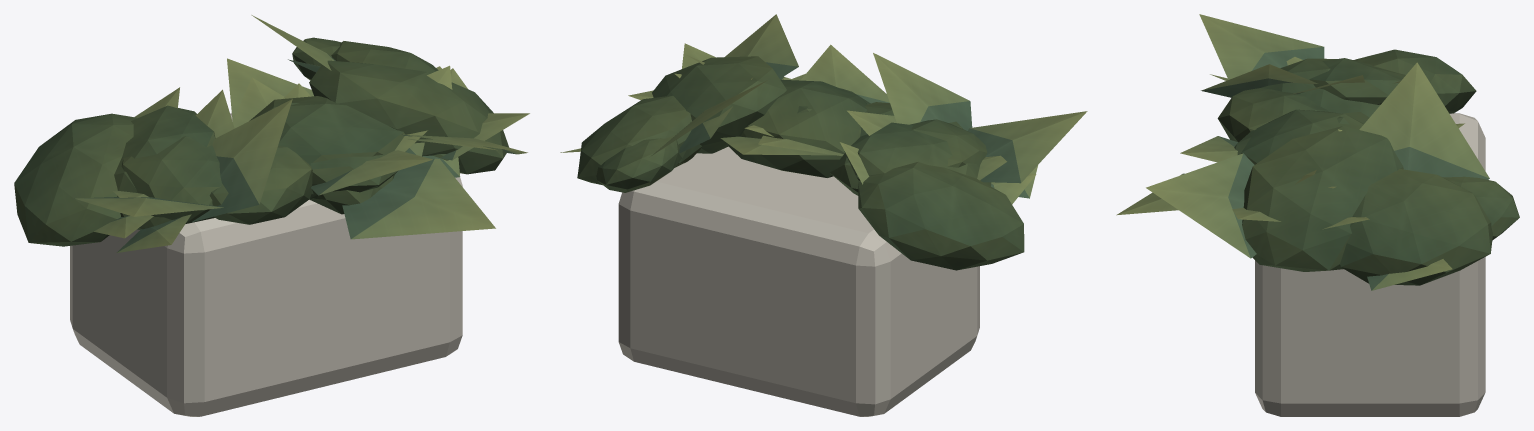
File: kit_stone_block.glb
3 views of the same model, side by side, from view 1: azimuth 30°, elevation 25°; view 2: azimuth 150°, elevation 25°; view 3: azimuth 270°, elevation 25° (orthographic). The views are drawn at different scales.
Visible parts, largest first — view 1: Dressed limestone, Woodland shared moss cushion.064, Woodland shared moss cushion.071, Woodland shared curved ivy leaf.145, Woodland shared moss cushion.063, Woodland shared moss cushion.069, Woodland shared curved ivy leaf.155, Woodland shared moss cushion.065, Woodland shared moss cushion.073, Woodland shared moss cushion.068, Woodland shared curved ivy leaf.152, Woodland shared curved ivy leaf.159 (+12 smaller); view 2: Dressed limestone, Woodland shared moss cushion.064, Woodland shared moss cushion.063, Woodland shared moss cushion.071, Woodland shared moss cushion.068, Woodland shared curved ivy leaf.159, Woodland shared curved ivy leaf.155, Woodland shared moss cushion.073, Woodland shared moss cushion.070, Woodland shared moss cushion.069, Woodland shared curved ivy leaf.152, Woodland shared curved ivy leaf.163 (+6 smaller); view 3: Dressed limestone, Woodland shared moss cushion.071, Woodland shared moss cushion.068, Woodland shared curved ivy leaf.156, Woodland shared curved ivy leaf.163, Woodland shared curved ivy leaf.159, Woodland shared moss cushion.065, Woodland shared moss cushion.064, Woodland shared moss cushion.063, Woodland shared moss cushion.073, Woodland shared moss cushion.069, Woodland shared moss cushion.070 (+5 smaller).
Boxes of the visible parts, x1=… form: Dressed limestone: x1=70, y1=113, x2=462, y2=416; Woodland shared moss cushion.064: x1=14, y1=113, x2=136, y2=246; Woodland shared moss cushion.071: x1=309, y1=60, x2=508, y2=174; Woodland shared curved ivy leaf.145: x1=342, y1=158, x2=495, y2=239; Woodland shared moss cushion.063: x1=249, y1=96, x2=406, y2=194; Woodland shared moss cushion.069: x1=121, y1=136, x2=221, y2=223; Woodland shared curved ivy leaf.155: x1=191, y1=99, x2=292, y2=222; Woodland shared moss cushion.065: x1=209, y1=145, x2=312, y2=224; Woodland shared moss cushion.073: x1=114, y1=105, x2=215, y2=229; Woodland shared moss cushion.068: x1=331, y1=41, x2=438, y2=73; Woodland shared curved ivy leaf.152: x1=311, y1=150, x2=432, y2=195; Woodland shared curved ivy leaf.159: x1=74, y1=197, x2=223, y2=216; Dressed limestone: x1=618, y1=146, x2=979, y2=416; Woodland shared moss cushion.064: x1=858, y1=162, x2=1024, y2=270; Woodland shared moss cushion.063: x1=727, y1=79, x2=867, y2=177; Woodland shared moss cushion.071: x1=652, y1=56, x2=786, y2=153; Woodland shared moss cushion.068: x1=577, y1=95, x2=702, y2=185; Woodland shared curved ivy leaf.159: x1=968, y1=111, x2=1087, y2=183; Woodland shared curved ivy leaf.155: x1=873, y1=53, x2=972, y2=130; Woodland shared moss cushion.073: x1=844, y1=122, x2=991, y2=186; Woodland shared moss cushion.070: x1=596, y1=135, x2=682, y2=192; Woodland shared moss cushion.069: x1=829, y1=119, x2=987, y2=195; Woodland shared curved ivy leaf.152: x1=800, y1=44, x2=889, y2=103; Woodland shared curved ivy leaf.163: x1=724, y1=14, x2=798, y2=78; Dressed limestone: x1=1255, y1=113, x2=1485, y2=416; Woodland shared moss cushion.071: x1=1242, y1=126, x2=1403, y2=271; Woodland shared moss cushion.068: x1=1339, y1=169, x2=1492, y2=285; Woodland shared curved ivy leaf.156: x1=1359, y1=62, x2=1489, y2=179; Woodland shared curved ivy leaf.163: x1=1146, y1=153, x2=1256, y2=258; Woodland shared curved ivy leaf.159: x1=1199, y1=14, x2=1324, y2=79; Woodland shared moss cushion.065: x1=1217, y1=88, x2=1328, y2=142; Woodland shared moss cushion.064: x1=1353, y1=49, x2=1476, y2=113; Woodland shared moss cushion.063: x1=1241, y1=109, x2=1363, y2=164; Woodland shared moss cushion.073: x1=1309, y1=58, x2=1405, y2=104; Woodland shared moss cushion.069: x1=1261, y1=58, x2=1380, y2=123; Woodland shared moss cushion.070: x1=1443, y1=176, x2=1519, y2=240.
Bounding box in the file's own units: 0.674 × 0.4466 × 0.543.
4 materials, 3 textured.
